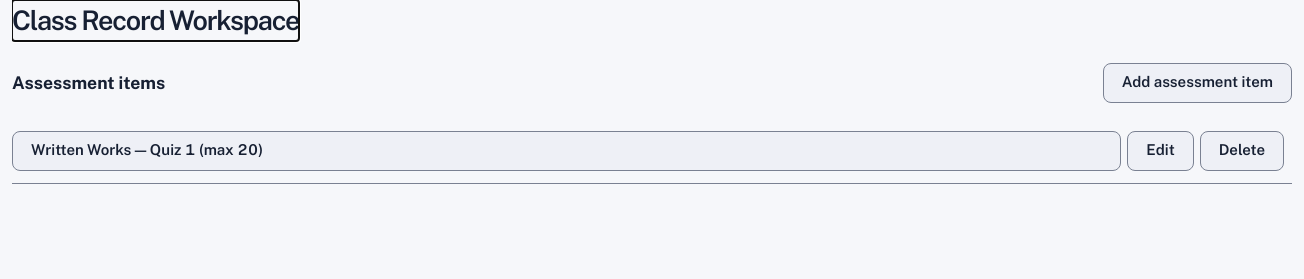
ClassRecordWorkspace › fully edits an unscored item's name, category, and max score
The width and height of the screenshot is (1304, 279).
expect the button "Written Works — Quiz 1 (max 20)" is shown: met, box top-left (12, 131), bottom-right (1121, 171)
Step 1. Click the button "Edit" → (1160, 151), box top-left (1127, 131), bottom-right (1194, 171)
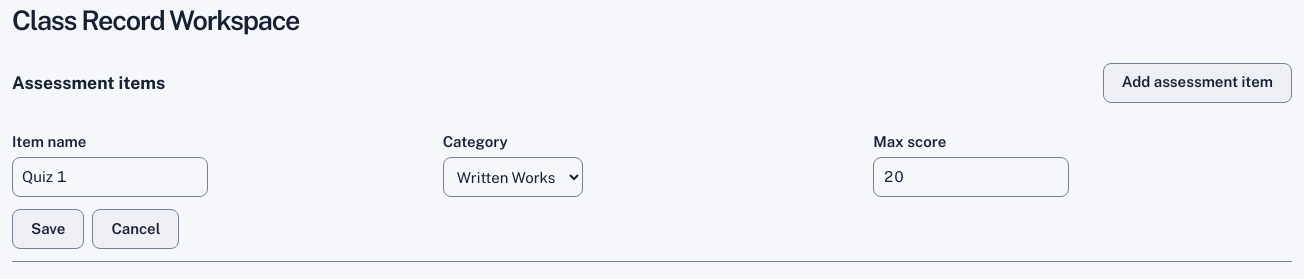
Step 2. Replace the text in the field labelled "Item name" with "Quiz 1 (Revised)" → (110, 177), box top-left (12, 157), bottom-right (208, 197)
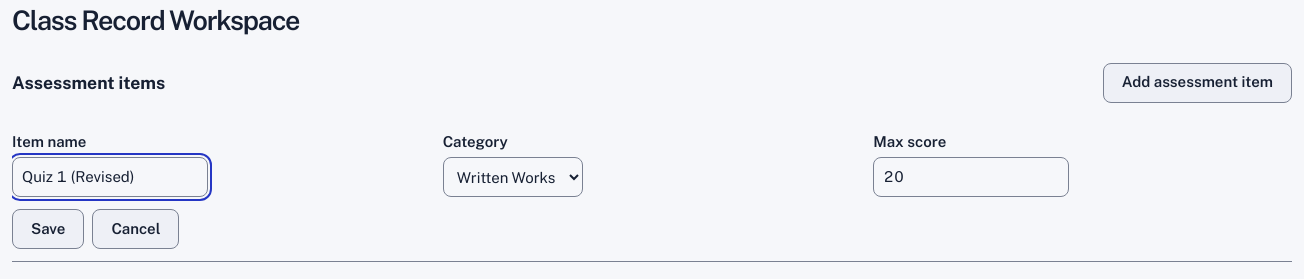
Step 3. Replace the text in the number field labelled "Max score" with "25" → (971, 177), box top-left (873, 157), bottom-right (1069, 197)
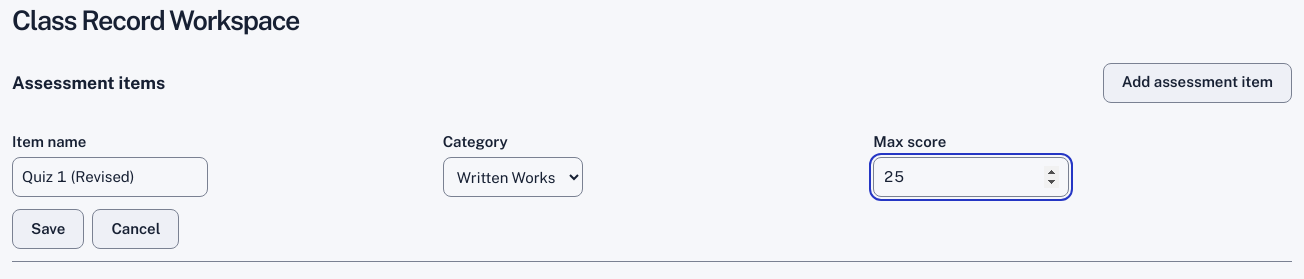
Step 4. Click the button "Save" → (48, 229), box top-left (12, 209), bottom-right (84, 249)
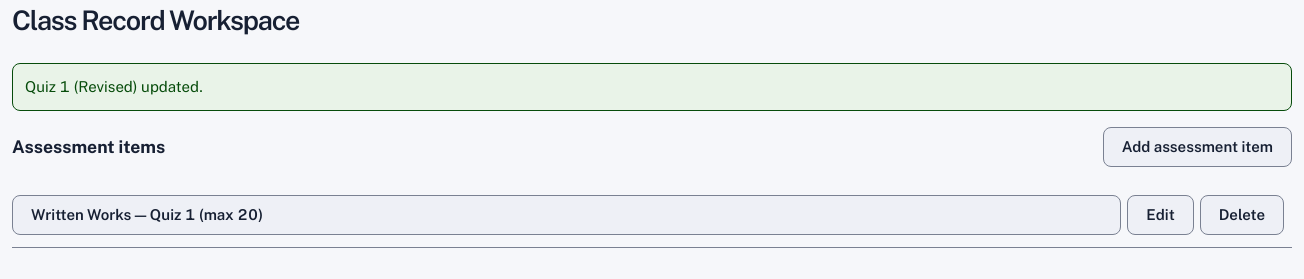
expect the text "Quiz 1 (Revised) updated." is shown: met, box top-left (12, 63), bottom-right (1292, 111)
